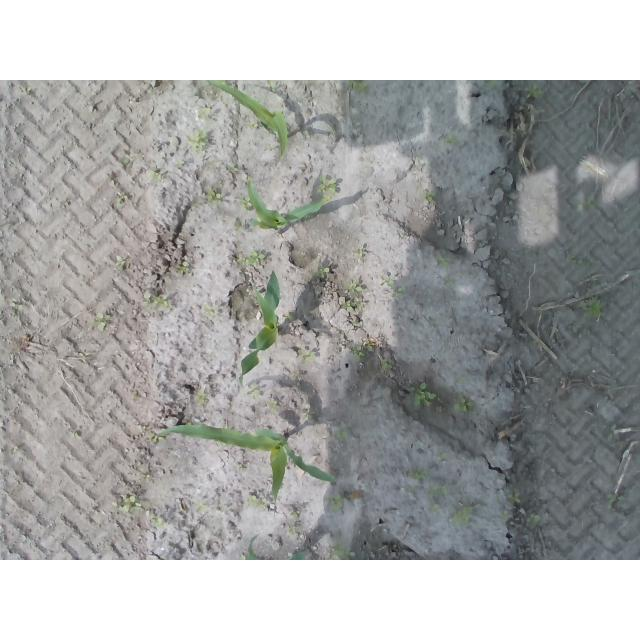Maize: (156, 424, 341, 511), (205, 80, 287, 161), (246, 177, 331, 231), (237, 271, 277, 385)
Weeds: (111, 494, 144, 514), (413, 382, 438, 408), (382, 276, 407, 298), (450, 504, 474, 523), (188, 128, 209, 149), (328, 545, 353, 560), (241, 248, 264, 264), (454, 397, 475, 414), (319, 176, 338, 193), (151, 295, 171, 310), (247, 495, 266, 509), (248, 383, 262, 401), (590, 296, 602, 316), (350, 80, 367, 93), (526, 86, 543, 99), (97, 312, 108, 332), (205, 190, 223, 202), (348, 283, 365, 295), (328, 496, 341, 511), (197, 107, 211, 120), (149, 433, 164, 445), (432, 485, 448, 496), (151, 514, 164, 527), (352, 348, 365, 360), (319, 265, 330, 279), (364, 342, 376, 354), (414, 470, 430, 479), (181, 261, 191, 275), (117, 193, 127, 207), (526, 513, 540, 523), (240, 197, 252, 208), (302, 352, 316, 361), (356, 246, 368, 256), (196, 392, 209, 401), (343, 302, 355, 311), (424, 192, 433, 203), (383, 359, 393, 368), (248, 120, 257, 130), (115, 259, 122, 270), (150, 171, 159, 178)
